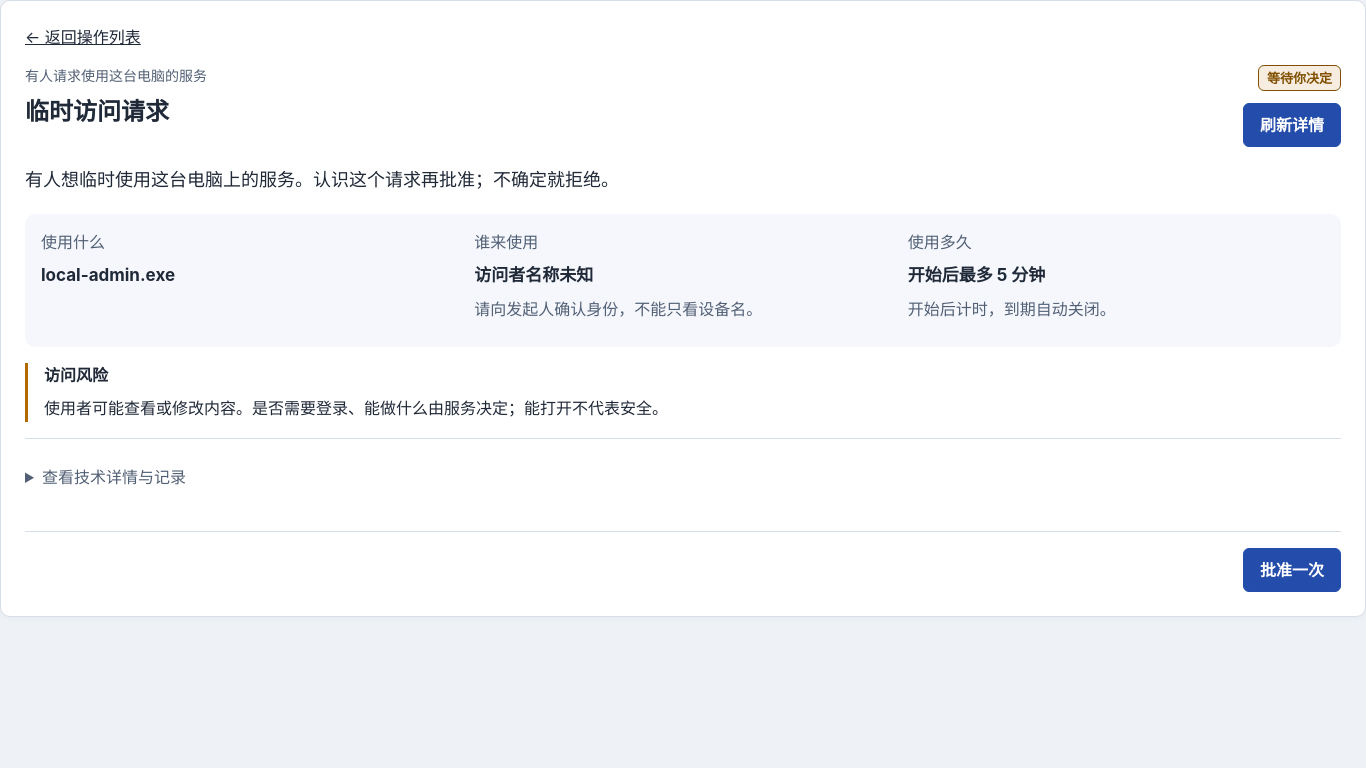
it: OperationDetailPage › 准备 批准一次 时最新详情变成 submission_result_unknown，不再打开确认框
Click the button "批准一次".
click(1292, 570)  # box top-left (1243, 548), bottom-right (1341, 592)
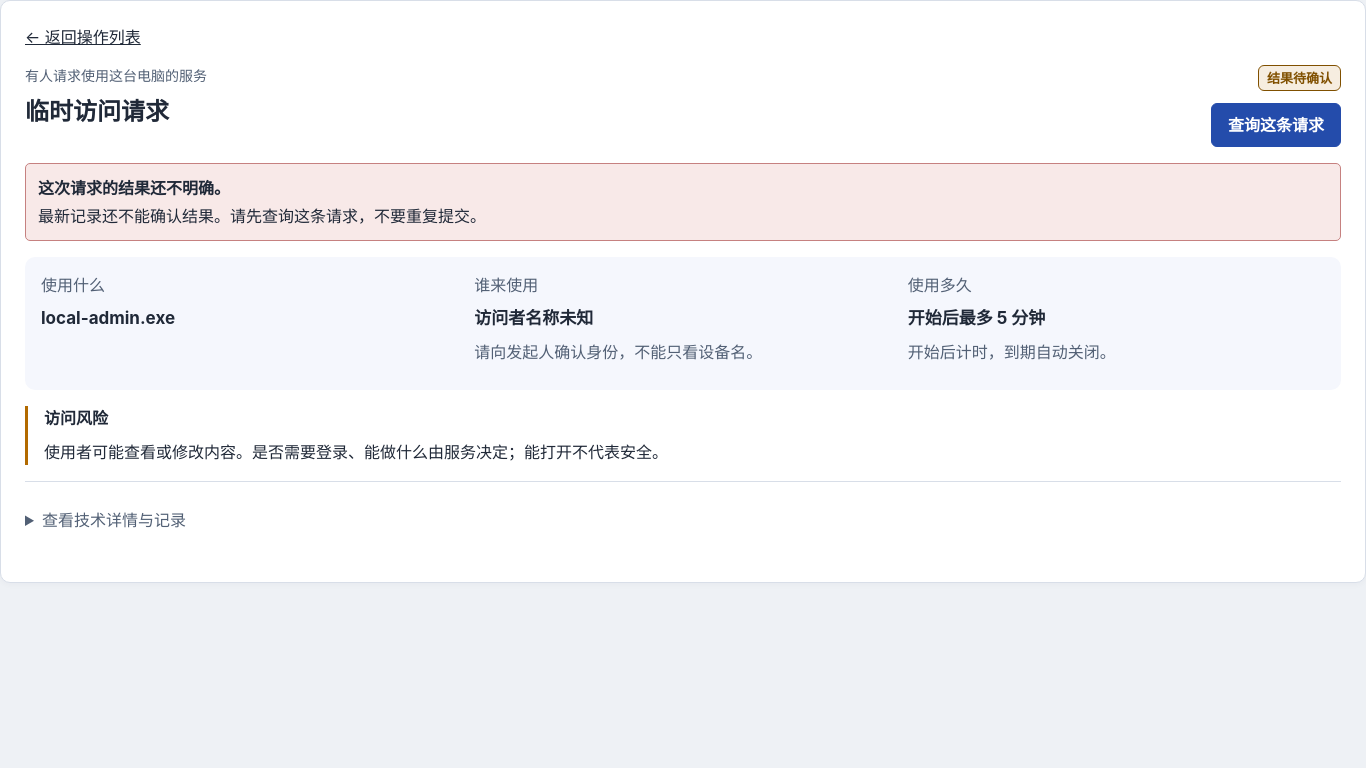
Expected: the text "这次请求的结果还不明确。" is shown, top-left (38, 178), bottom-right (230, 198)
Expected: the button "查询这条请求" is shown, top-left (1211, 103), bottom-right (1341, 147)
